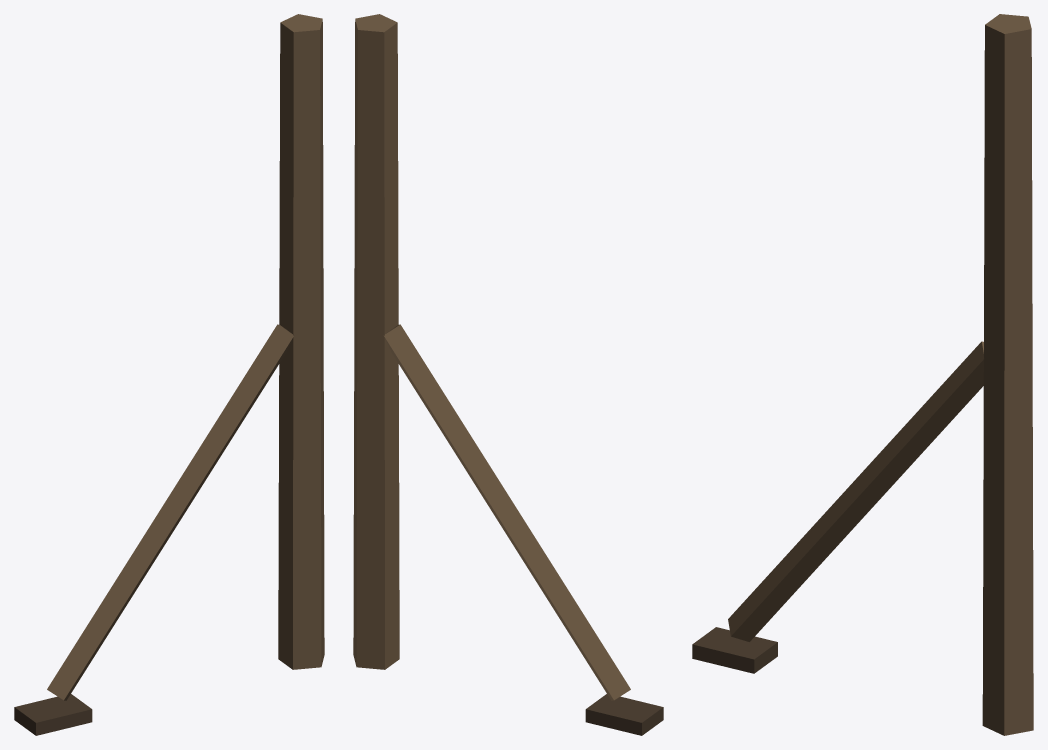
File: Prop_Valley_ExclosureFence_EndPost_LOD1.glb
The picture shows the model from 3 angles, left to right: view 1: azimuth 30°, elevation 25°; view 2: azimuth 150°, elevation 25°; view 3: azimuth 330°, elevation 25°; orthographic projection. The views are drawn at different scales.
Parts seen in each view (by area): view 1: Prop_Valley_ExclosureFence_EndPost; view 2: Prop_Valley_ExclosureFence_EndPost; view 3: Prop_Valley_ExclosureFence_EndPost.
Part boxes in pixels (x1,y1,x2,y2): Prop_Valley_ExclosureFence_EndPost: [14, 14, 324, 735]; Prop_Valley_ExclosureFence_EndPost: [353, 14, 663, 735]; Prop_Valley_ExclosureFence_EndPost: [692, 14, 1033, 735].
Bounding box in the file's own units: 0.959 × 1.95 × 0.1312.
